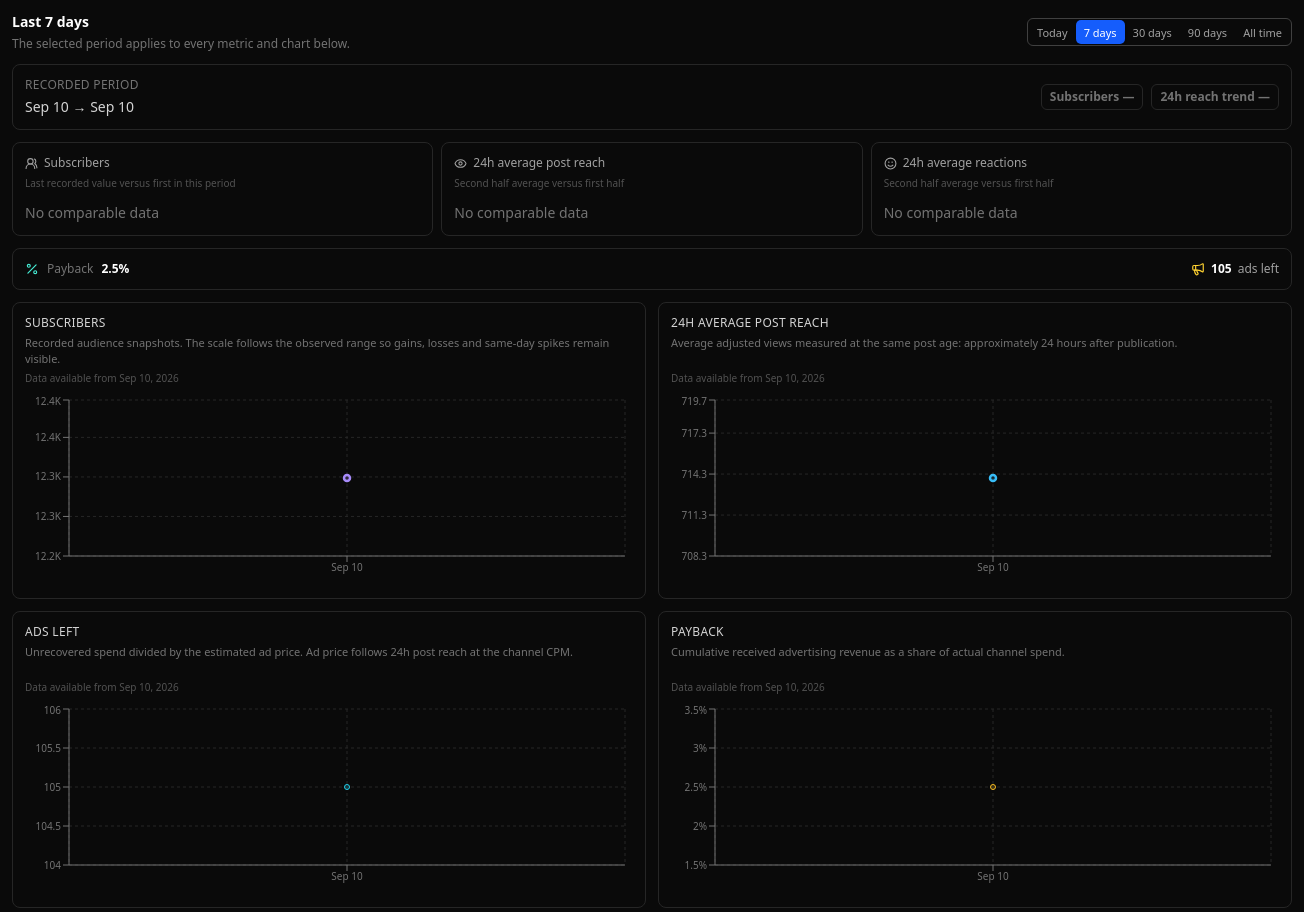
Test: ChannelPerformanceHistoryPanel › shows today's recorded values without meaningless comparisons
Click the button "Today": [1052, 32] box [1029, 20, 1076, 44]
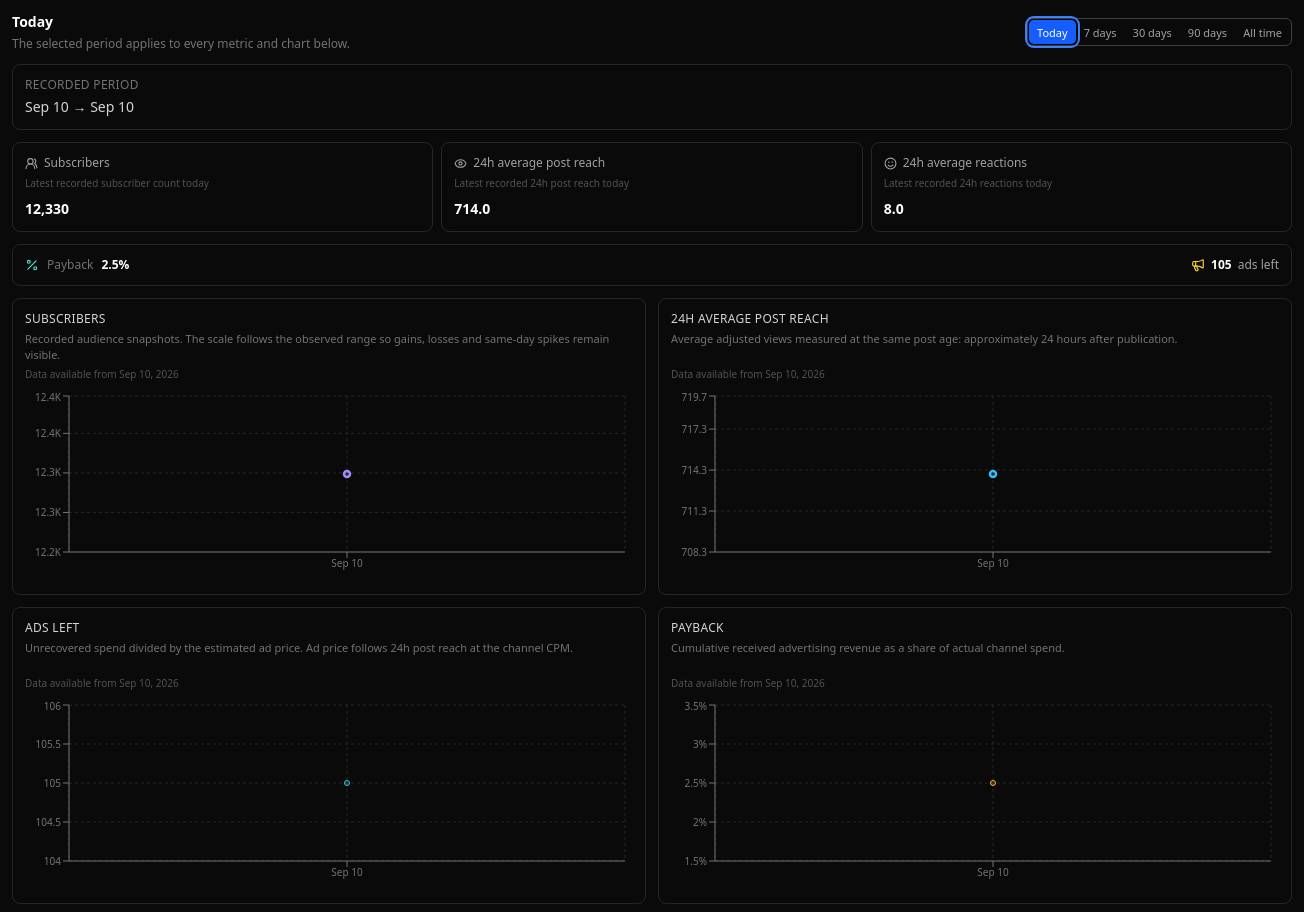
Expected: the text "12,330" is shown, [25, 199, 69, 218]
Expected: the text "714.0" is shown, [454, 199, 490, 218]
Expected: the text "8.0" is shown, [884, 199, 904, 218]
